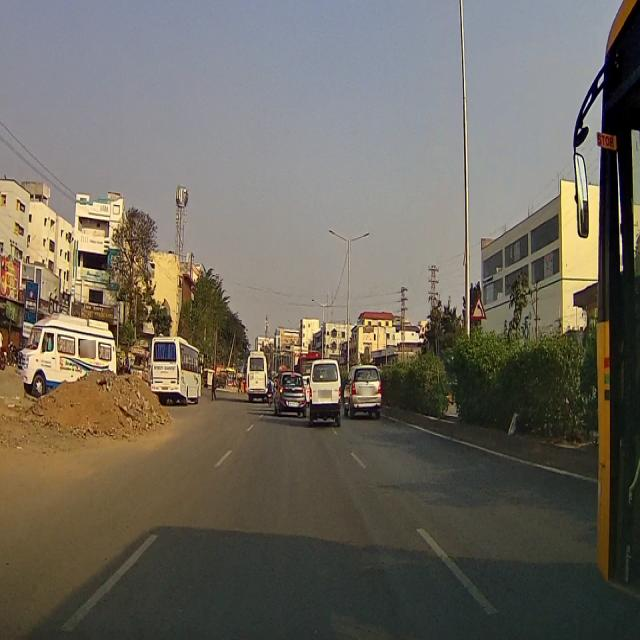left-hand-curve: (472, 296, 487, 318)
